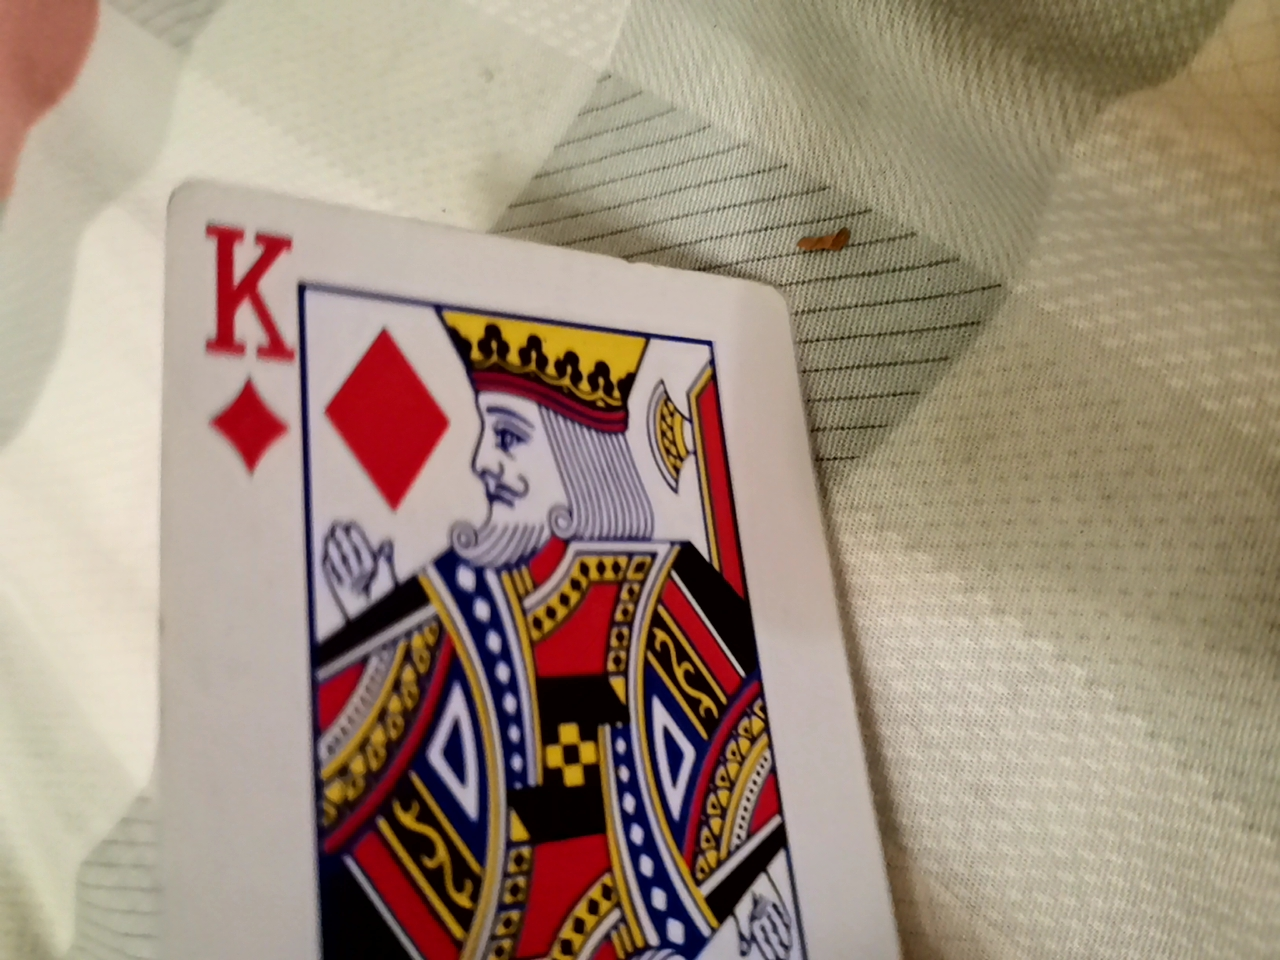fk k: (157, 222, 942, 960)
